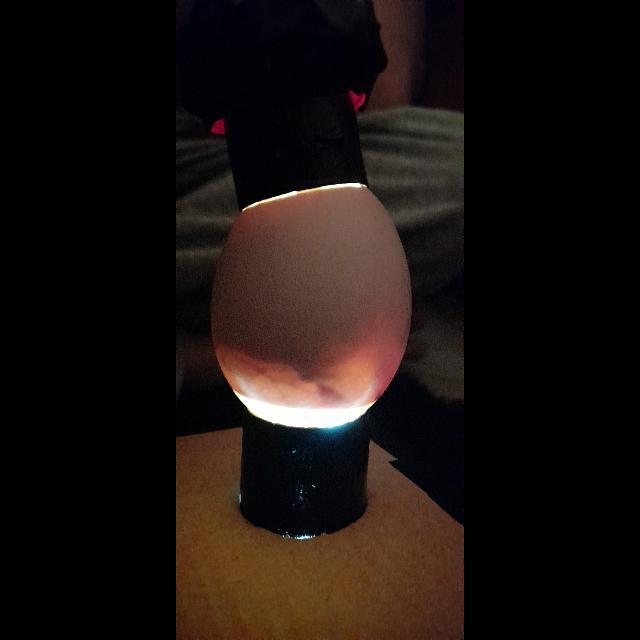Fertile: (216, 186, 417, 430)
